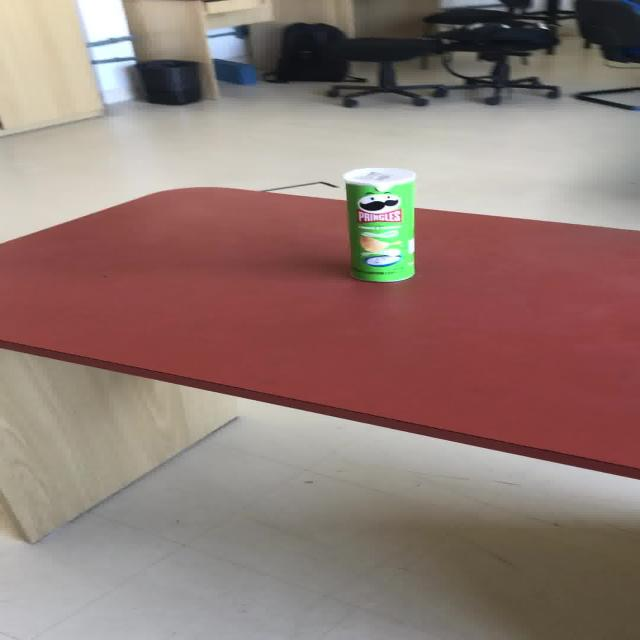pringles: (341, 167, 415, 282)
